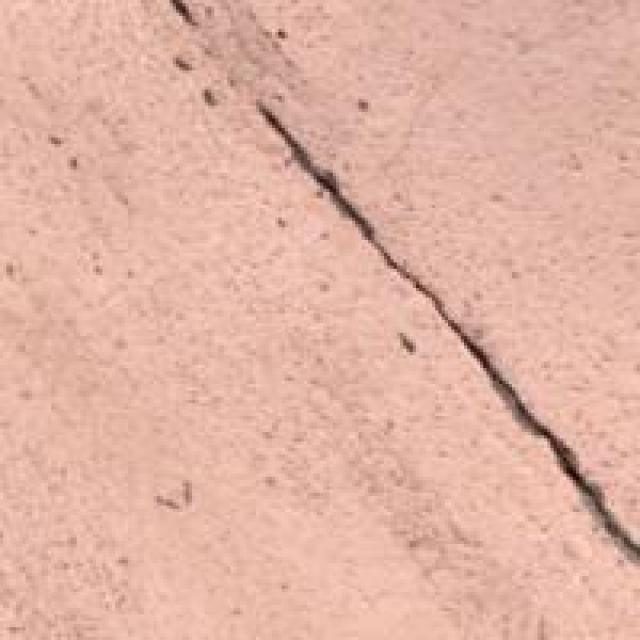Crack: (169, 0, 636, 550)
